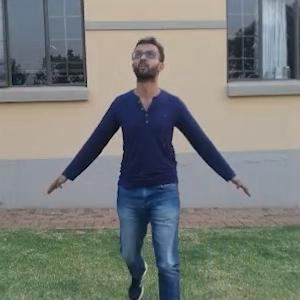land: (43, 19, 286, 290)
